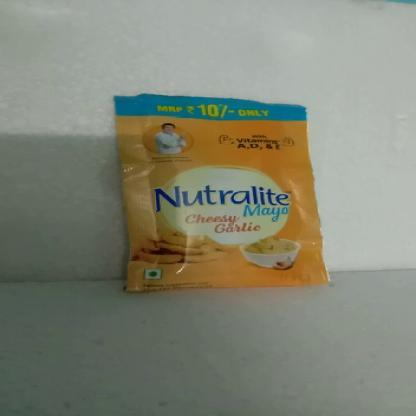Nutralite CHEESY GARLIC MAYO 30g: (121, 103, 310, 290)
